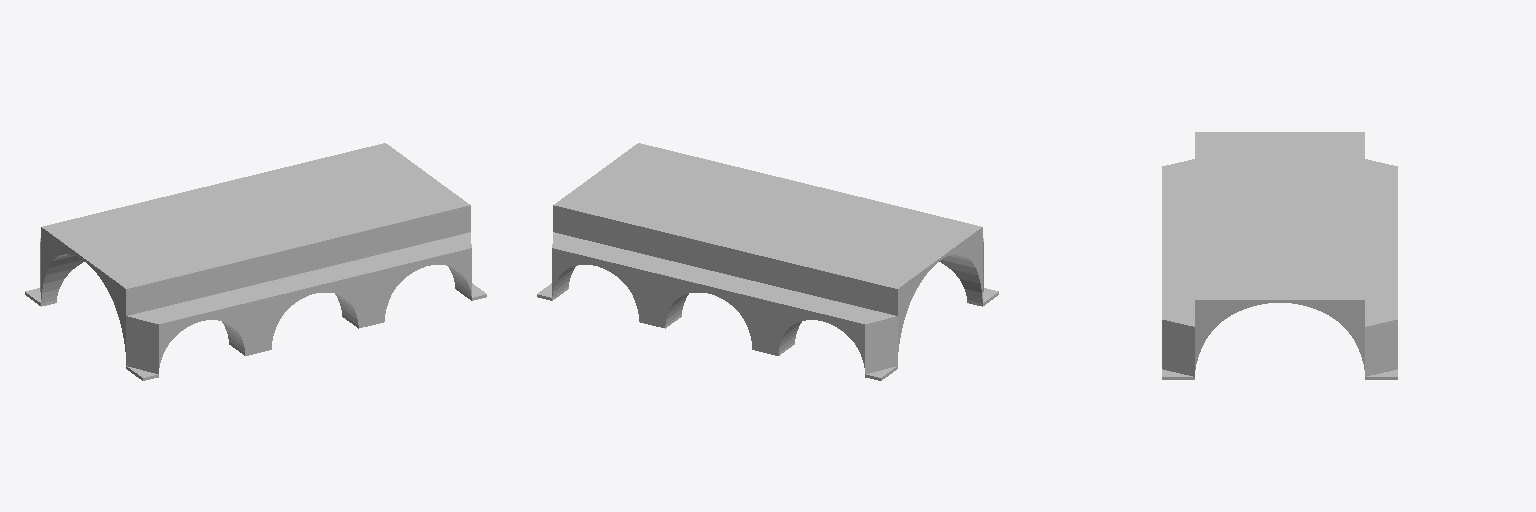
The model's file is Ceiling.obj.
The picture shows the model from 3 angles: view 1: azimuth 30°, elevation 25°; view 2: azimuth 150°, elevation 25°; view 3: azimuth 270°, elevation 25°; orthographic projection.
Visible parts, largest first — view 1: entity1_brush122, entity1_brush51, entity1_brush117, entity1_brush119, entity1_brush50, entity1_brush52, entity1_brush121, entity1_brush53, entity1_brush115, entity1_brush54; view 2: entity1_brush122, entity1_brush109, entity1_brush125, entity1_brush127, entity1_brush108, entity1_brush130, entity1_brush128, entity1_brush110, entity1_brush123, entity1_brush111; view 3: entity1_brush122, entity1_brush117, entity1_brush119, entity1_brush125, entity1_brush127, entity1_brush115, entity1_brush123, entity1_brush121, entity1_brush128.
Part boxes in pixels (x1,y1,x2,y2): entity1_brush122: (41,143,470,291); entity1_brush51: (108,220,470,310); entity1_brush117: (301,247,425,292); entity1_brush119: (189,275,312,319); entity1_brush50: (114,227,470,315); entity1_brush52: (103,215,470,303); entity1_brush121: (116,302,198,331); entity1_brush53: (97,212,470,298); entity1_brush115: (415,232,471,264); entity1_brush54: (92,209,470,295); entity1_brush122: (553,143,982,291); entity1_brush109: (553,220,915,310); entity1_brush125: (598,247,722,292); entity1_brush127: (711,275,834,319); entity1_brush108: (553,227,909,315); entity1_brush130: (553,215,920,303); entity1_brush128: (825,302,907,331); entity1_brush110: (553,212,926,298); entity1_brush123: (552,232,608,264); entity1_brush111: (553,209,931,295); entity1_brush122: (1195,132,1364,302); entity1_brush117: (1162,244,1194,296); entity1_brush119: (1162,189,1194,241); entity1_brush125: (1365,244,1397,296); entity1_brush127: (1365,189,1397,241); entity1_brush115: (1162,299,1215,333); entity1_brush123: (1344,299,1397,333); entity1_brush121: (1162,159,1194,185); entity1_brush128: (1365,159,1397,185).
Bounding box in the file's own units: 2100 × 466 × 1250.